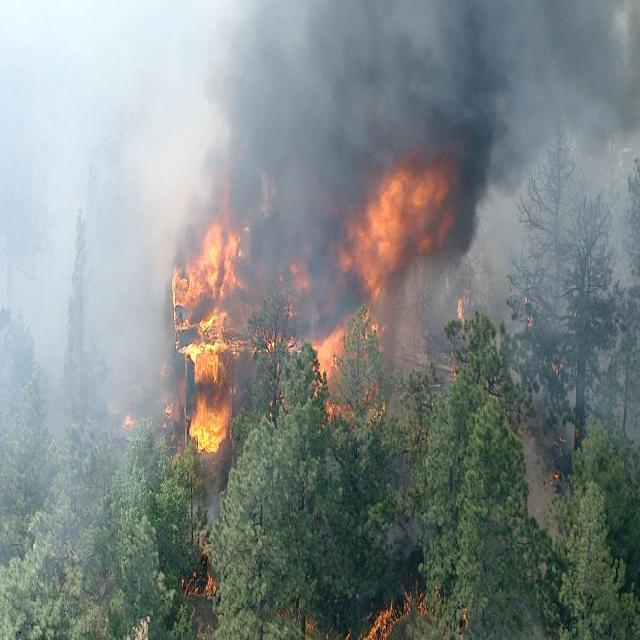Fire: (172, 207, 245, 380), (182, 382, 235, 457)
Smoke: (171, 0, 640, 352)
